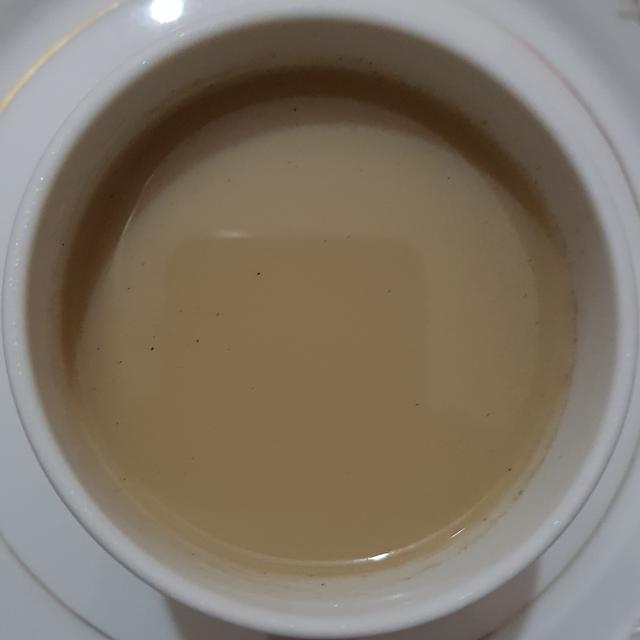Iced Coffee: (4, 3, 636, 636)
